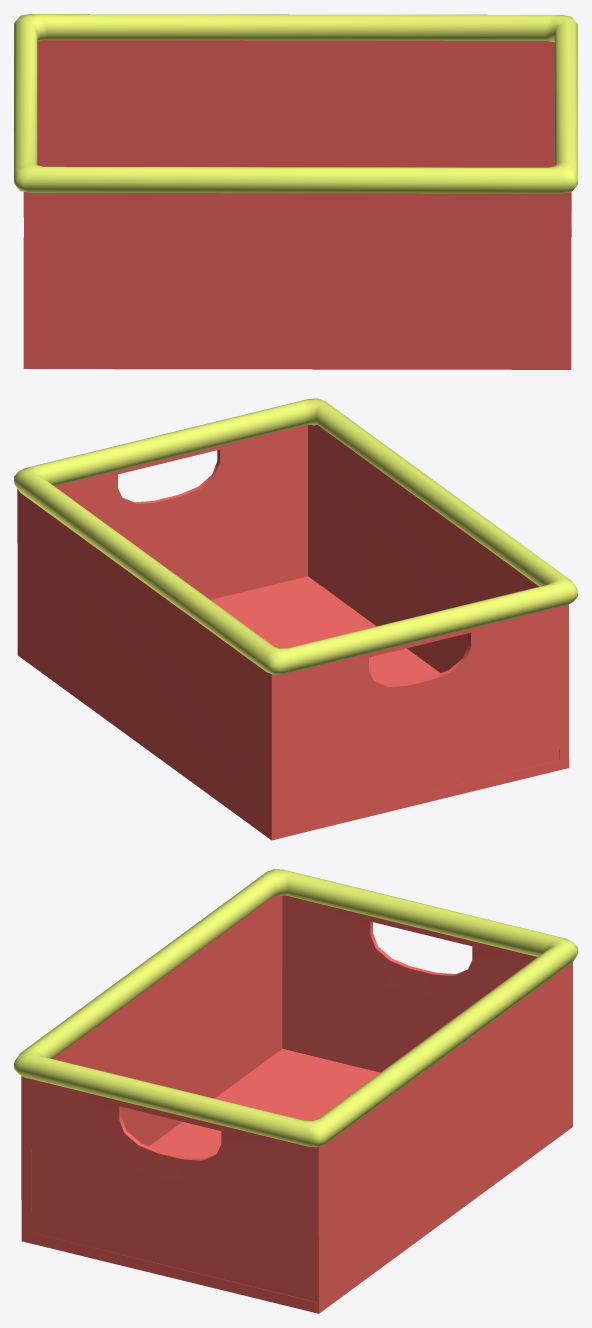
File: Toy149.fbx
3 views of the same model, one above another, from view 1: azimuth 30°, elevation 25°; view 2: azimuth 150°, elevation 25°; view 3: azimuth 270°, elevation 25° (orthographic). The views are drawn at different scales.
Parts seen in each view (by area): view 1: Toy149; view 2: Toy149; view 3: Toy149.
Part boxes in pixels (<box>): Toy149: <box>14,14,577,369</box>; Toy149: <box>14,398,577,840</box>; Toy149: <box>14,869,577,1313</box>.
Bounding box in the file's own units: 0.2076 × 0.0685 × 0.1874.
